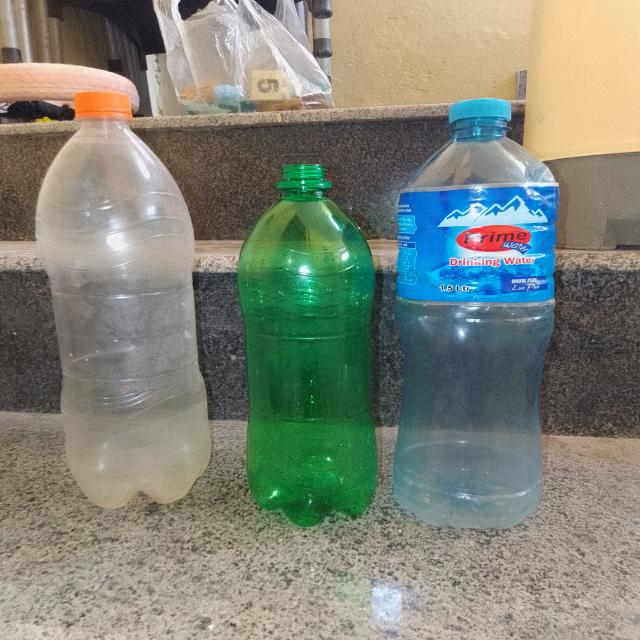bottle: (394, 88, 593, 536), (27, 79, 220, 514), (225, 143, 384, 525)
cap: (442, 96, 520, 128), (69, 87, 137, 123)
label: (396, 186, 566, 309)
